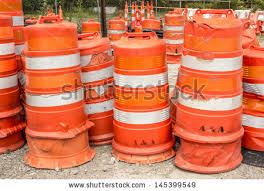barrel: (23, 26, 93, 164), (184, 16, 244, 143), (113, 38, 171, 148), (80, 35, 110, 147), (243, 47, 264, 160), (1, 16, 21, 114), (1, 1, 24, 61), (165, 14, 186, 65), (108, 20, 123, 39)
